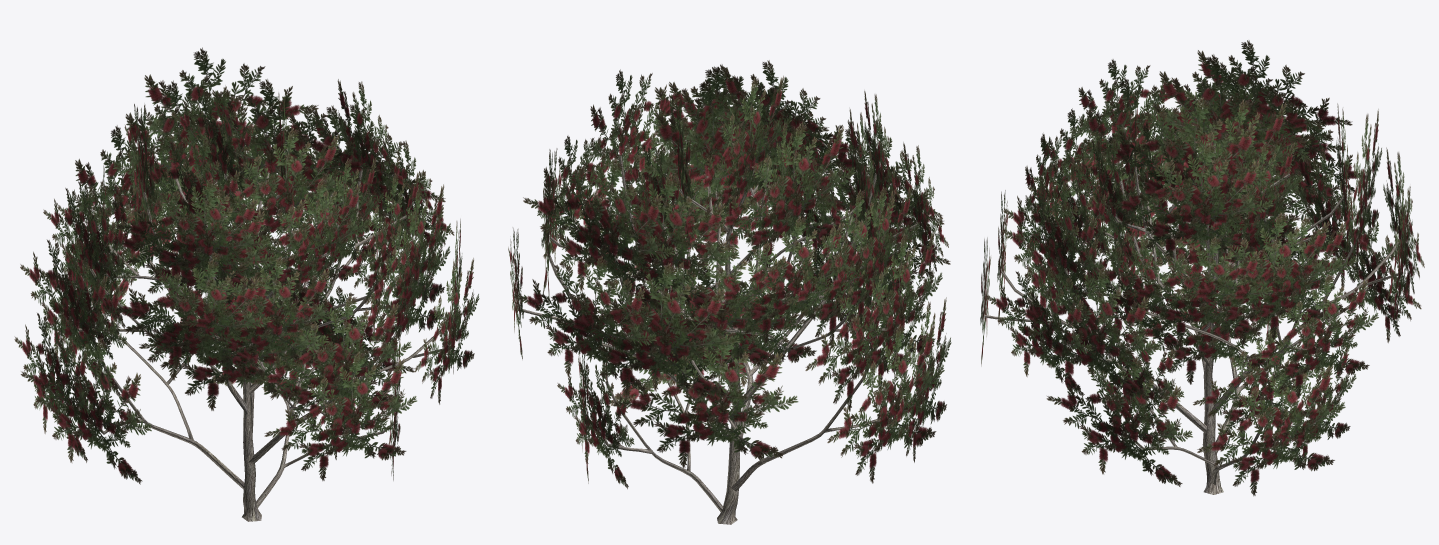
The model's file is shrub_01.glb.
3 views of the same model, side by side, from view 1: azimuth 30°, elevation 25°; view 2: azimuth 150°, elevation 25°; view 3: azimuth 270°, elevation 25° (orthographic). The views are drawn at different scales.
Parts seen in each view (by area): view 1: Callistemon_laevis_RT; view 2: Callistemon_laevis_RT; view 3: Callistemon_laevis_RT.
Part boxes in pixels (<box>): Callistemon_laevis_RT: <box>14,47,479,521</box>; Callistemon_laevis_RT: <box>508,60,951,524</box>; Callistemon_laevis_RT: <box>980,40,1424,496</box>.
Bounding box in the file's own units: 0.9008 × 1 × 0.9167.
2 materials, 2 textured.
